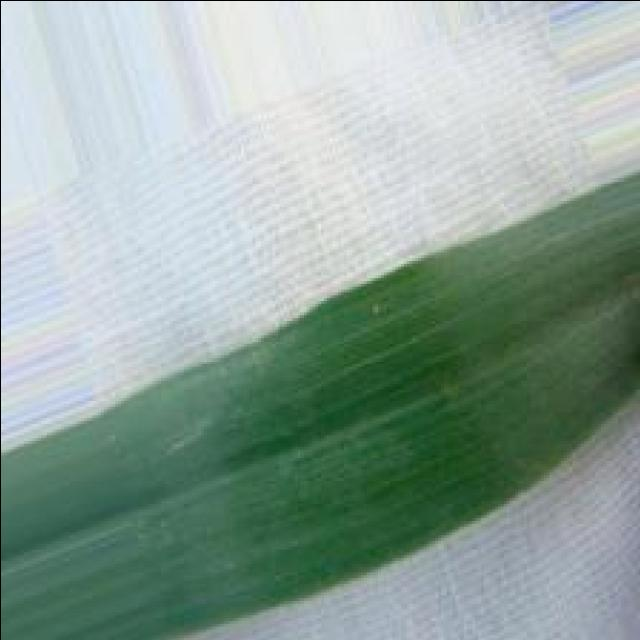Healthy: (0, 171, 640, 640)
